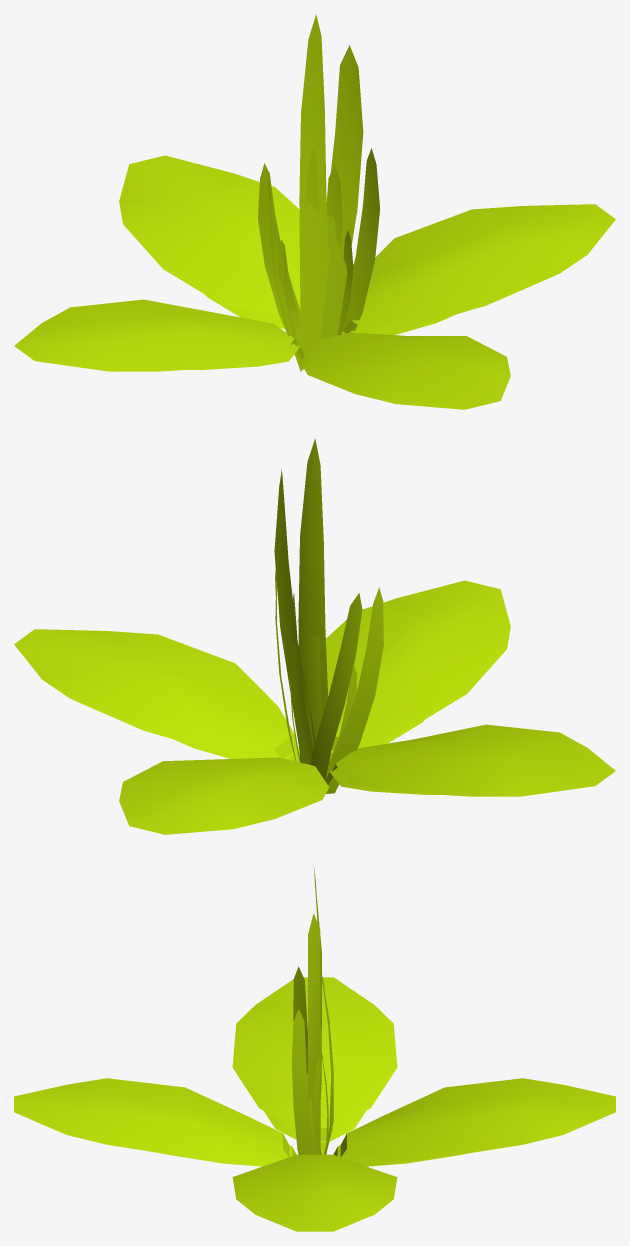
File: Grass 1.fbx
3 views of the same model, one above another, from view 1: azimuth 30°, elevation 25°; view 2: azimuth 150°, elevation 25°; view 3: azimuth 270°, elevation 25° (orthographic). The views are drawn at different scales.
Parts seen in each view (by area): view 1: Plant1_Big, Plant2_Big, Plant2_Small, Plant1_Small; view 2: Plant1_Big, Plant2_Big, Plant2_Small, Plant1_Small; view 3: Plant1_Big, Plant2_Big, Plant1_Small, Plant2_Small.
Boxes of the visible parts, x1,y1,x2,y2 form: Plant1_Big: (14,155,615,409); Plant2_Big: (258,14,379,371); Plant2_Small: (277,147,353,360); Plant1_Small: (188,295,455,369); Plant1_Big: (14,580,615,834); Plant2_Big: (274,438,383,793); Plant2_Small: (290,593,357,776); Plant1_Small: (173,720,440,794); Plant1_Big: (14,977,615,1231); Plant2_Big: (291,865,333,1155); Plant1_Small: (165,1111,464,1166); Plant2_Small: (305,1024,328,1154).
Bounding box in the file's own units: 0.6146 × 0.3563 × 0.6146.
